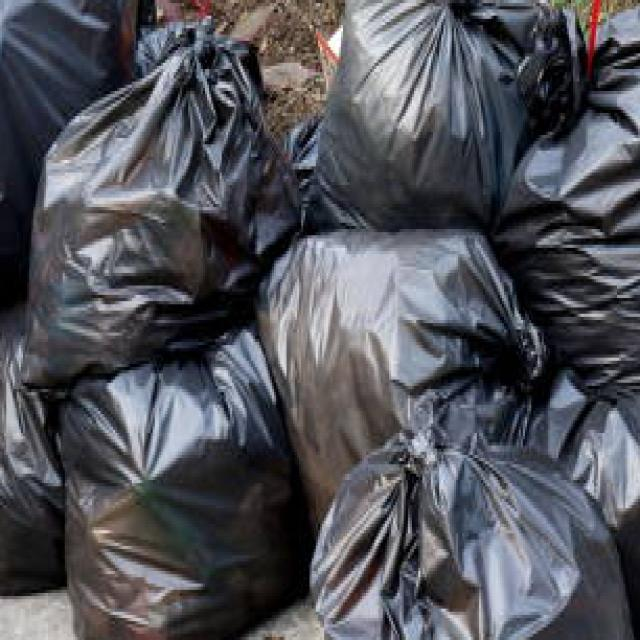Trashbag: (310, 421, 640, 640), (45, 48, 277, 352), (40, 364, 298, 624), (272, 215, 519, 440), (313, 0, 532, 221), (544, 24, 640, 414)
